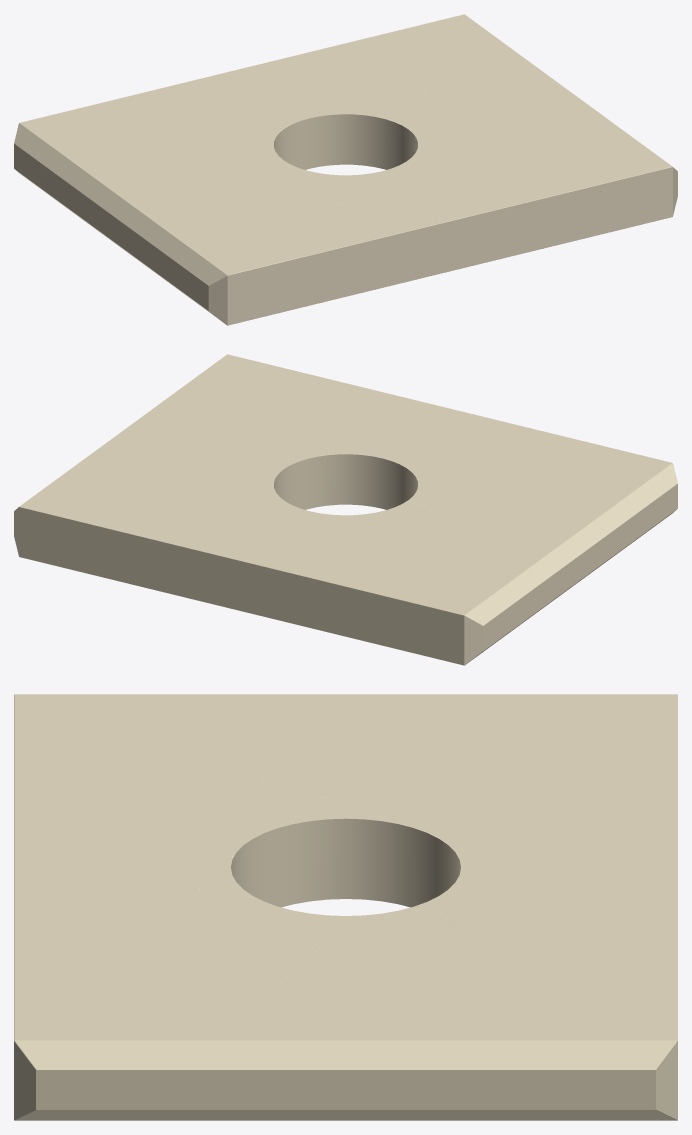
Rendered from asinma-rammer-e64-all-round-wear-plate-02.glb.
3 renders of one model, top to bottom at view 1: azimuth 30°, elevation 25°; view 2: azimuth 150°, elevation 25°; view 3: azimuth 270°, elevation 25°, orthographic. The views are drawn at different scales.
Visible parts, largest first — view 1: body; view 2: body; view 3: body.
Part boxes in pixels (bbox=[...]): body: bbox=[14, 14, 677, 325]; body: bbox=[14, 354, 677, 665]; body: bbox=[14, 694, 677, 1120].
Bounding box in the file's own units: 0.0975 × 0.01 × 0.075.
